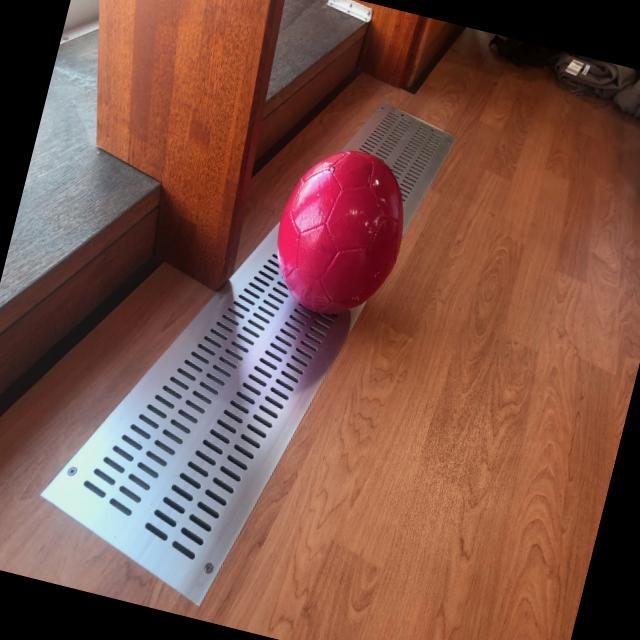red_ball: (260, 137, 420, 330)
